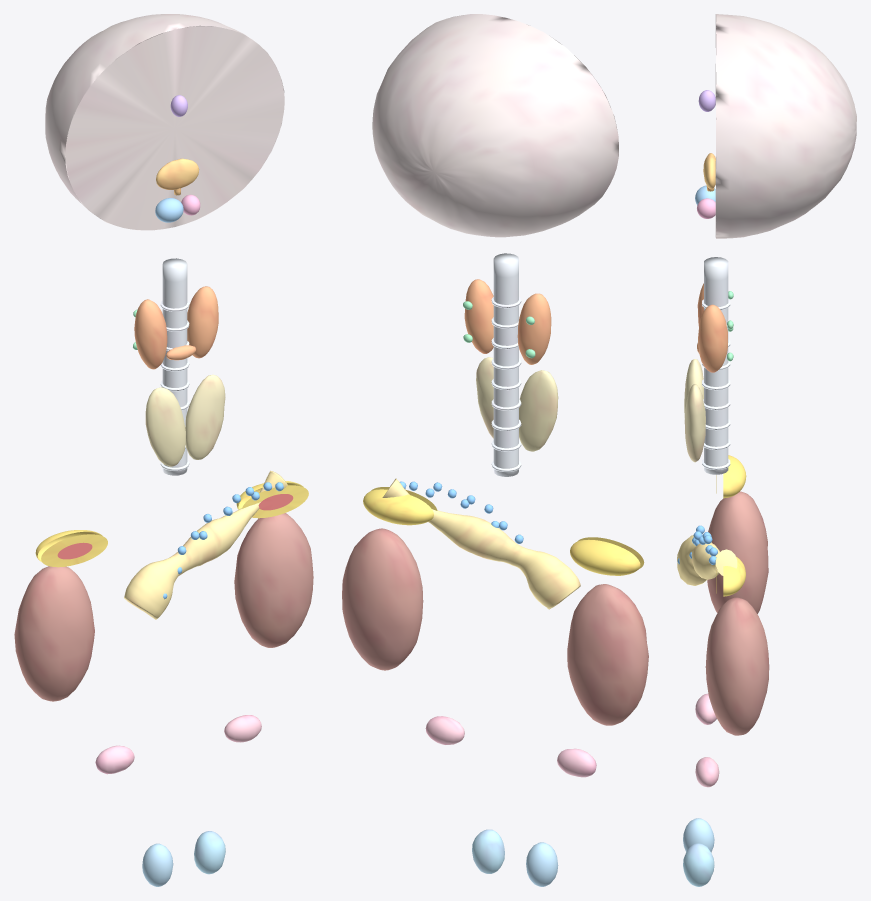
Rendered from ENDOCRINE.glb.
3 views of the same model, side by side, from view 1: azimuth 30°, elevation 25°; view 2: azimuth 150°, elevation 25°; view 3: azimuth 270°, elevation 25° (orthographic). The views are drawn at different scales.
Visible parts, largest first — view 1: Brain_Reference, Kidney_Reference_R, Kidney_Reference_L, Thymus, Pancreas, Thyroid_Gland, Trachea_Reference, Adrenal_Cortex_R, Adrenal_Cortex_L, Testis_L, Hypothalamus, Testis_R (+3 smaller); view 2: Brain_Reference, Kidney_Reference_R, Kidney_Reference_L, Trachea_Reference, Pancreas, Thymus, Thyroid_Gland, Adrenal_Cortex_R, Adrenal_Cortex_L, Testis_L, Testis_R, Ovary_R (+2 smaller); view 3: Brain_Reference, Kidney_Reference_L, Kidney_Reference_R, Trachea_Reference, Thymus, Thyroid_Gland, Pancreas, Testis_L, Testis_R, Adrenal_Cortex_R, Adrenal_Cortex_L, Ovary_L (+3 smaller).
Part boxes in pixels (x1,y1,x2,y2): Brain_Reference: (45, 14, 284, 230); Kidney_Reference_R: (14, 566, 94, 701); Kidney_Reference_L: (234, 513, 313, 647); Thymus: (145, 374, 225, 466); Pancreas: (124, 470, 287, 619); Thyroid_Gland: (134, 286, 218, 369); Trachea_Reference: (160, 258, 189, 475); Adrenal_Cortex_R: (35, 530, 107, 567); Adrenal_Cortex_L: (236, 481, 308, 518); Testis_L: (194, 831, 225, 874); Hypothalamus: (156, 158, 199, 195); Testis_R: (142, 843, 173, 886); Brain_Reference: (372, 14, 618, 237); Kidney_Reference_R: (567, 584, 648, 725); Kidney_Reference_L: (342, 528, 423, 670); Trachea_Reference: (491, 253, 521, 476); Pancreas: (382, 478, 580, 609); Thymus: (476, 357, 558, 451); Thyroid_Gland: (464, 279, 551, 364); Adrenal_Cortex_R: (570, 537, 644, 575); Adrenal_Cortex_L: (363, 487, 437, 525); Testis_L: (472, 829, 504, 873); Testis_R: (526, 842, 558, 886); Ovary_R: (557, 748, 596, 777); Brain_Reference: (715, 14, 856, 238); Kidney_Reference_L: (705, 597, 769, 735); Kidney_Reference_R: (707, 491, 768, 613); Trachea_Reference: (702, 257, 730, 474); Thymus: (684, 359, 705, 462); Thyroid_Gland: (697, 283, 727, 372); Pancreas: (677, 535, 737, 585); Testis_L: (683, 843, 714, 886); Testis_R: (683, 818, 714, 852); Adrenal_Cortex_R: (716, 455, 746, 498); Adrenal_Cortex_L: (716, 556, 745, 596); Ovary_L: (695, 757, 719, 787).
Bounding box in the file's own units: 1.92 × 5.3 × 1.02.
